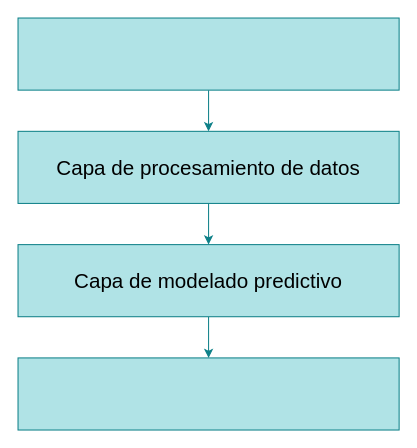
This 417x448 diagram has some shape labels left out. Each missing label, with the centre of its shape:
"Capa de evaluación de modelos" goes at point 208,393.
"Capa de ingesta de datos" goes at point 208,53.
